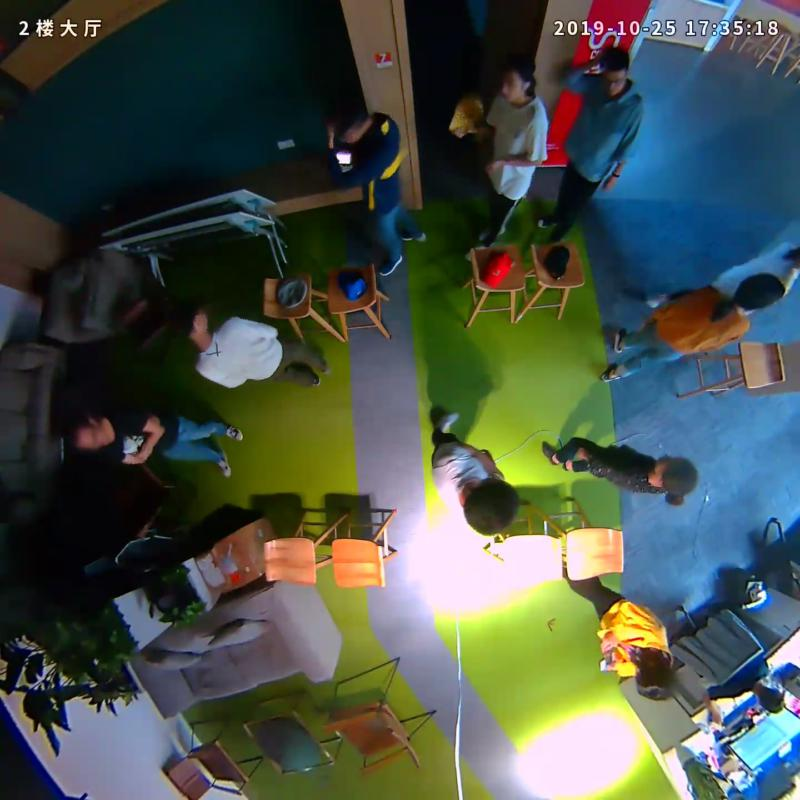head: (464, 473, 519, 535), (653, 453, 699, 506), (734, 272, 786, 311), (636, 650, 675, 701), (162, 301, 208, 341), (61, 414, 107, 452), (497, 56, 534, 103), (329, 101, 368, 145), (598, 44, 629, 96)
